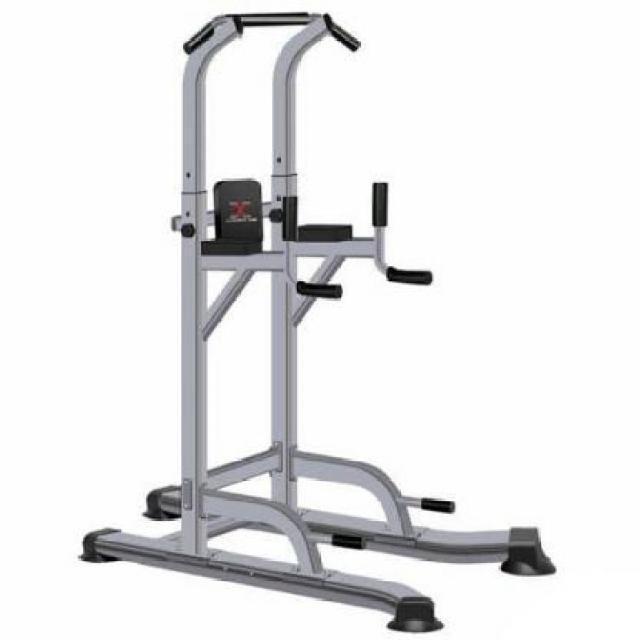chinning dipping: (77, 8, 558, 635)
